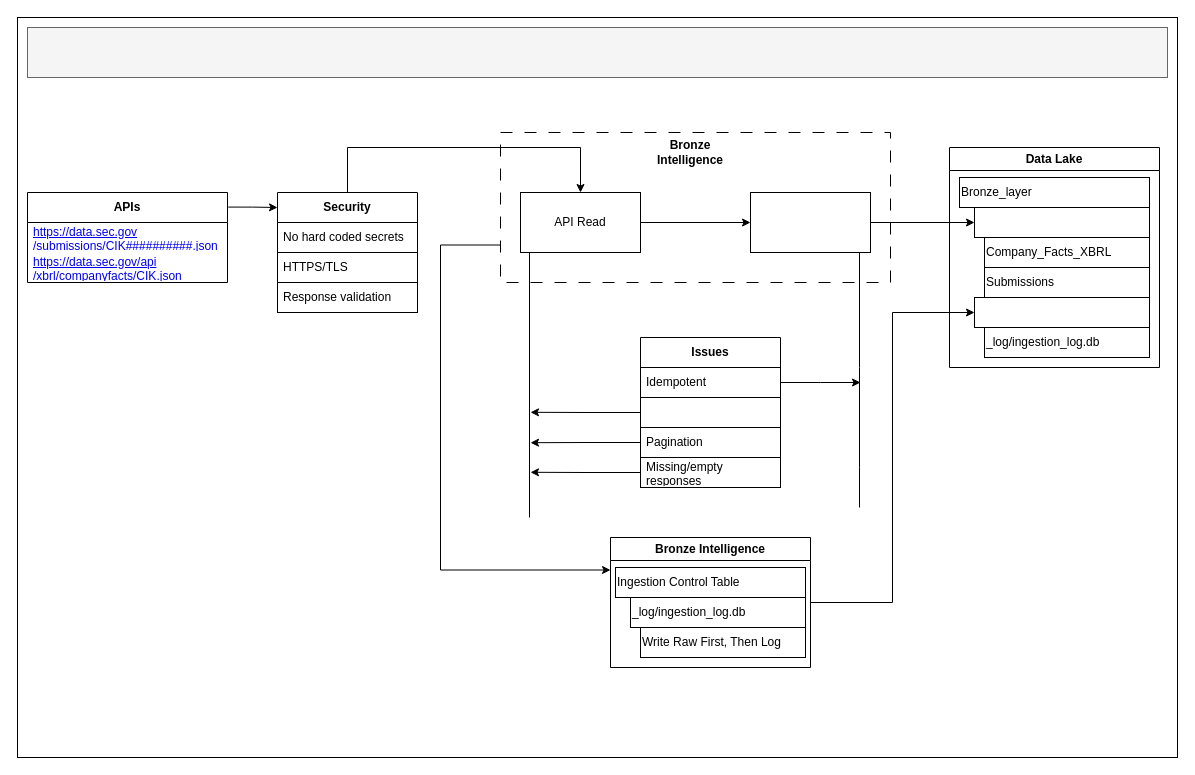
Image size: 1195x775. Some labels were removed from this diagram. The centre of each missing label's shape, as x and y in pixels:
API Write: the point at 810,222
BLUEPRINT FOR THE BRONZE LAYER (Version 1) (Batch Processing): the point at 597,52
Ingestion Control Tables: the point at 1062,312
Rate limits: the point at 710,412
Raw storage: the point at 1062,222
